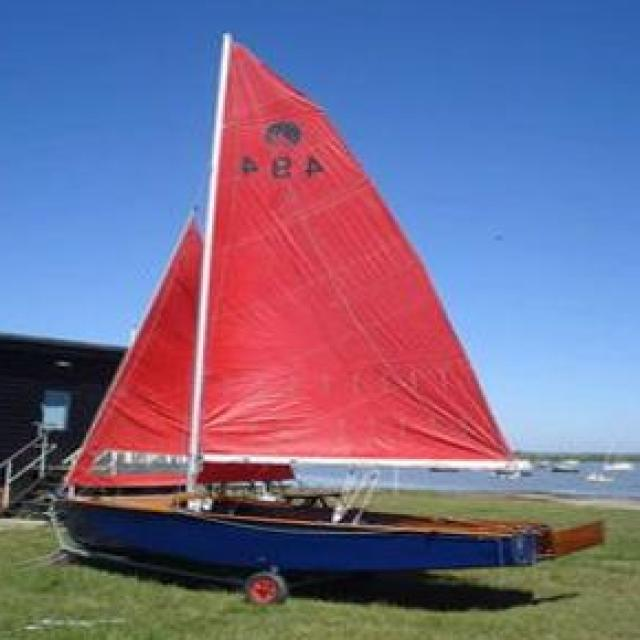sailboat: (51, 33, 609, 578)
